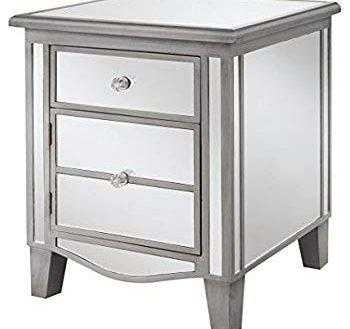obstacle: (9, 0, 339, 327)
